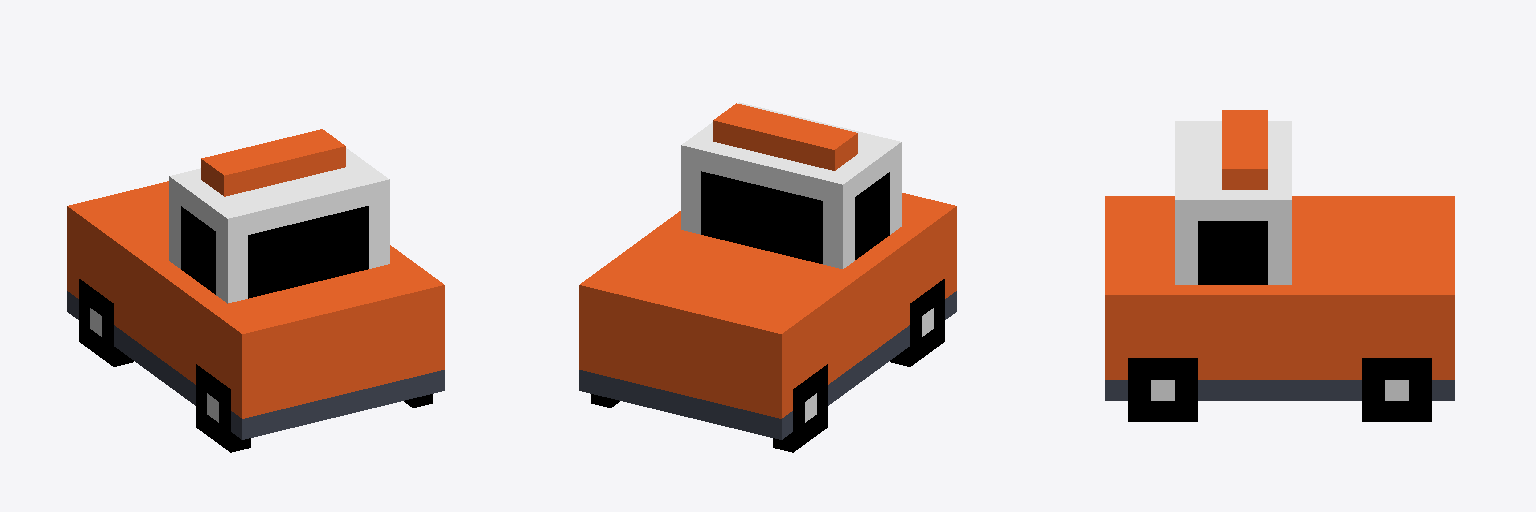
3 renders of one model, left to right at view 1: azimuth 30°, elevation 25°; view 2: azimuth 150°, elevation 25°; view 3: azimuth 270°, elevation 25°, orthographic.
Bounding box in the file's own units: 10 × 11 × 15.
Materials: 1 (1 with a texture image).